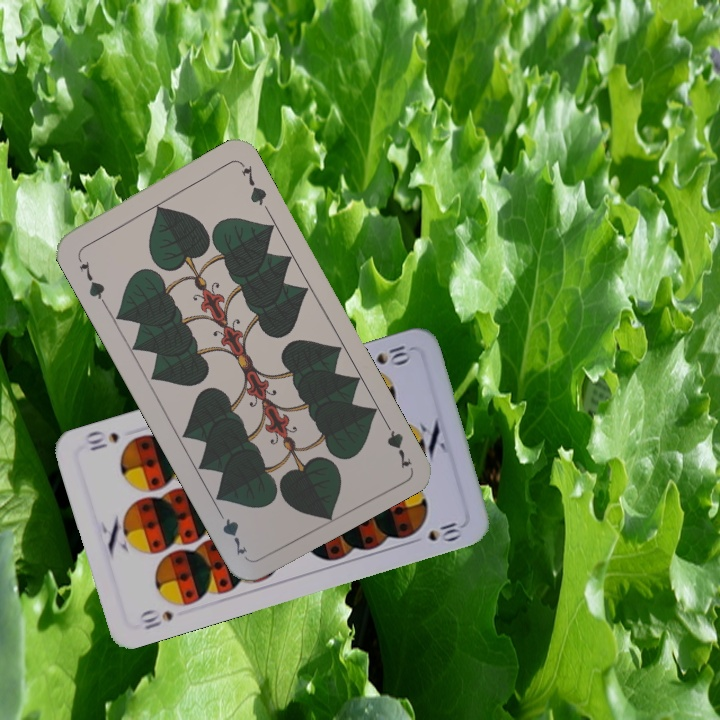G7: (378, 413, 414, 471), (73, 251, 108, 306)
S10: (371, 341, 414, 367), (135, 605, 176, 632)
